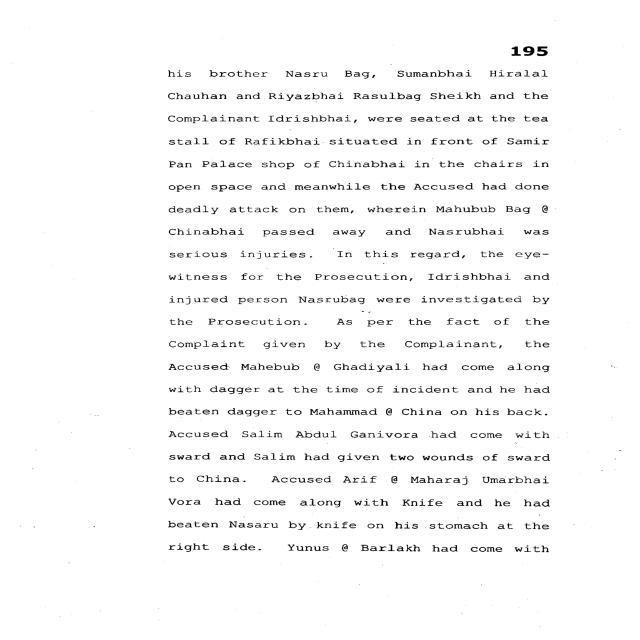page-number: (424, 0, 636, 62)
